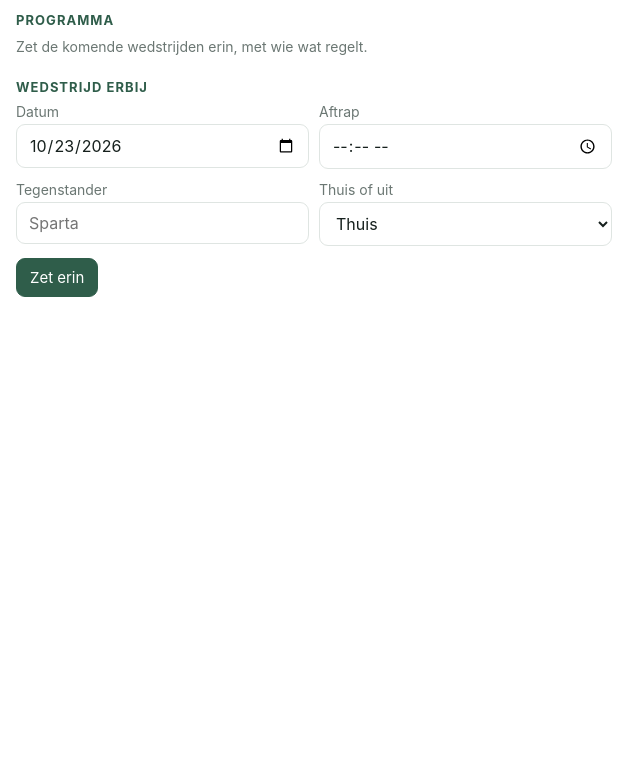
Scenario: het programma op het web › zet een wedstrijd erin
Type "Ajax" into the field with placeholder "Sparta". click: (162, 223)
box: [16,202,309,244]
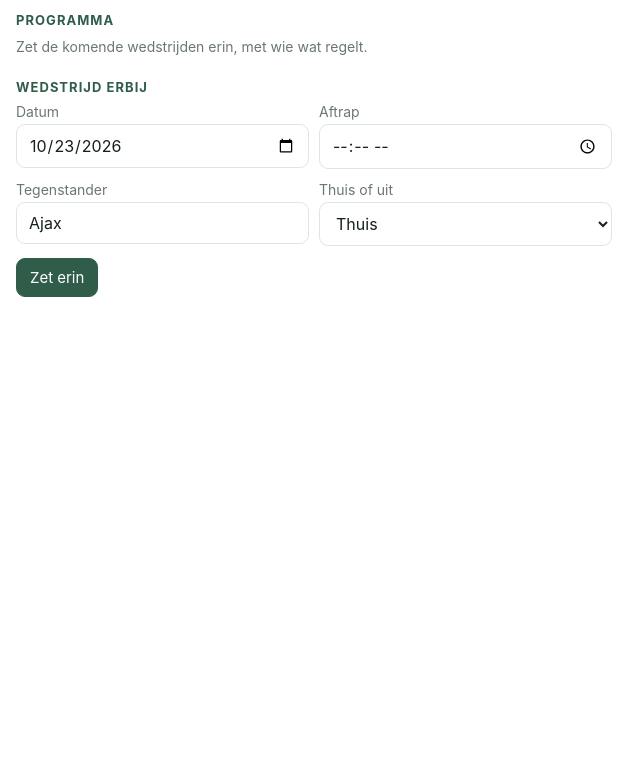
Click the button "Zet erin". click: (57, 277)
box: [16,258,98,297]
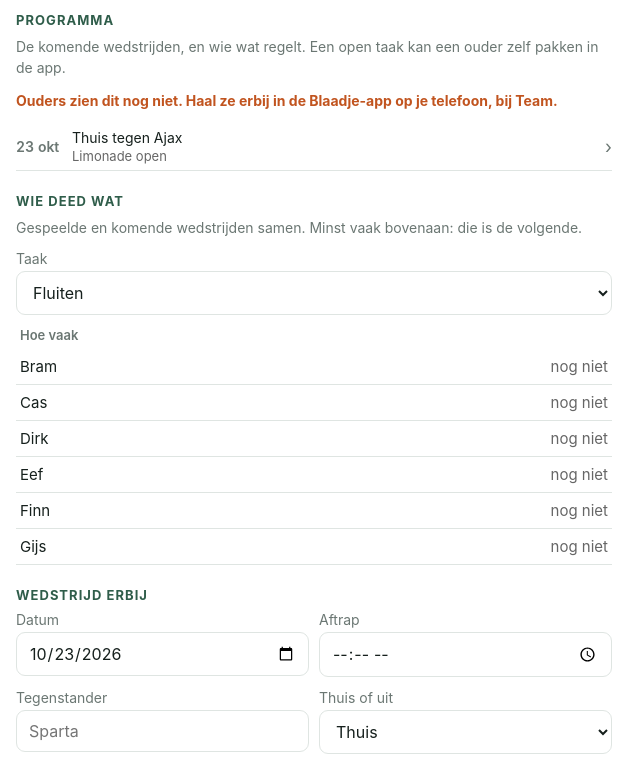
Check: the text "Thuis tegen Ajax" is shown, box [72,129,182,146]
